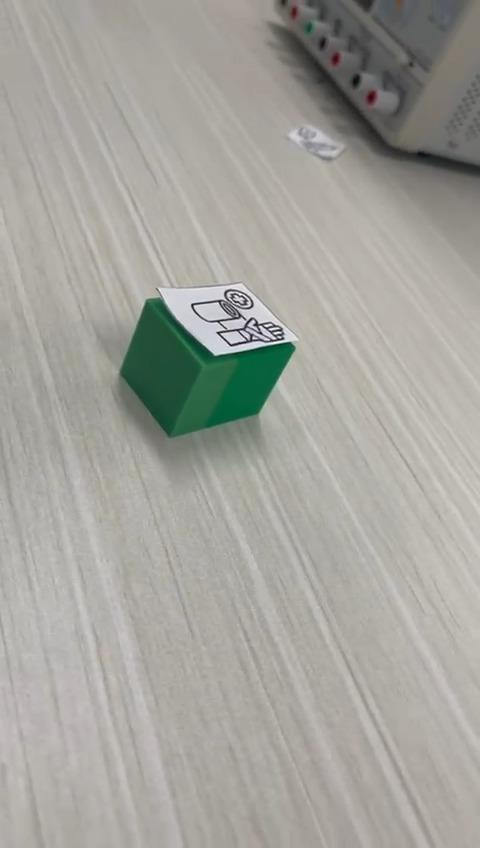Bandages: (119, 284, 298, 438)
